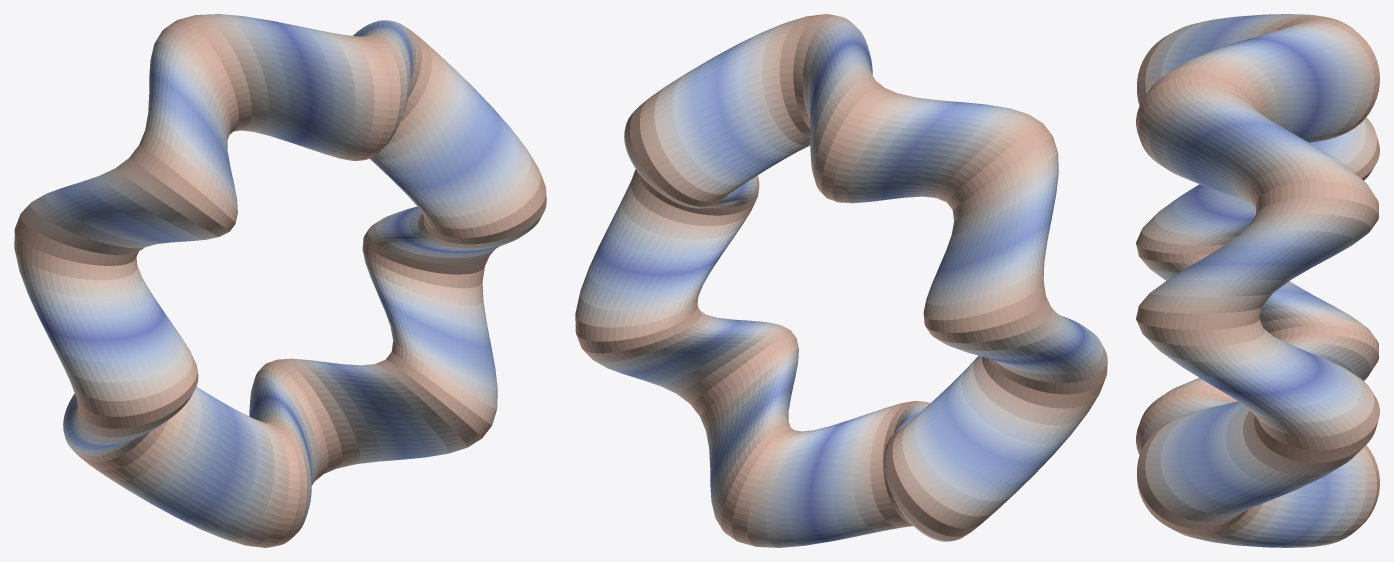
Rendered from step_14.glb.
3 renders of one model, left to right at view 1: azimuth 30°, elevation 25°; view 2: azimuth 150°, elevation 25°; view 3: azimuth 270°, elevation 25°, orthographic.
Visible parts, largest first — view 1: world; view 2: world; view 3: world.
Boxes of the visible parts, x1=… form: world: x1=14, y1=14, x2=546, y2=547; world: x1=575, y1=14, x2=1107, y2=547; world: x1=1136, y1=14, x2=1379, y2=547.
Bounding box in the file's own units: 26 × 26 × 11.87.
